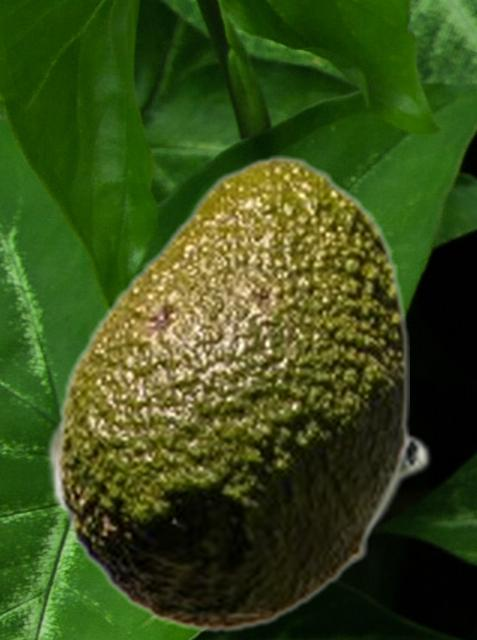avocado: (56, 155, 408, 633), (43, 416, 432, 542)
